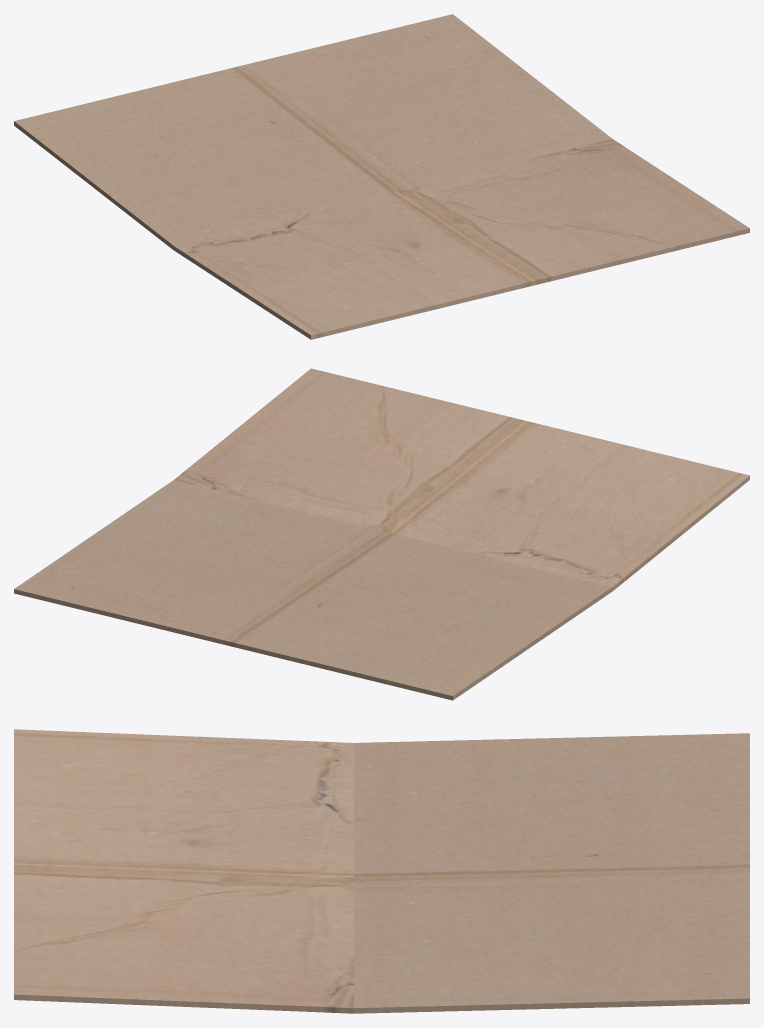
Rendered from cardboard_plane.glb.
The picture shows the model from 3 angles, top to bottom: view 1: azimuth 30°, elevation 25°; view 2: azimuth 150°, elevation 25°; view 3: azimuth 270°, elevation 25°; orthographic projection. The views are drawn at different scales.
Parts seen in each view (by area): view 1: CardboardPlane; view 2: CardboardPlane; view 3: CardboardPlane.
Boxes of the visible parts, bbox=[...] form: CardboardPlane: bbox=[14, 14, 749, 339]; CardboardPlane: bbox=[14, 368, 749, 700]; CardboardPlane: bbox=[14, 729, 749, 1013].
Bounding box in the file's own units: 0.7357 × 0.0249 × 0.8627.
Materials: 1 (1 with a texture image).
